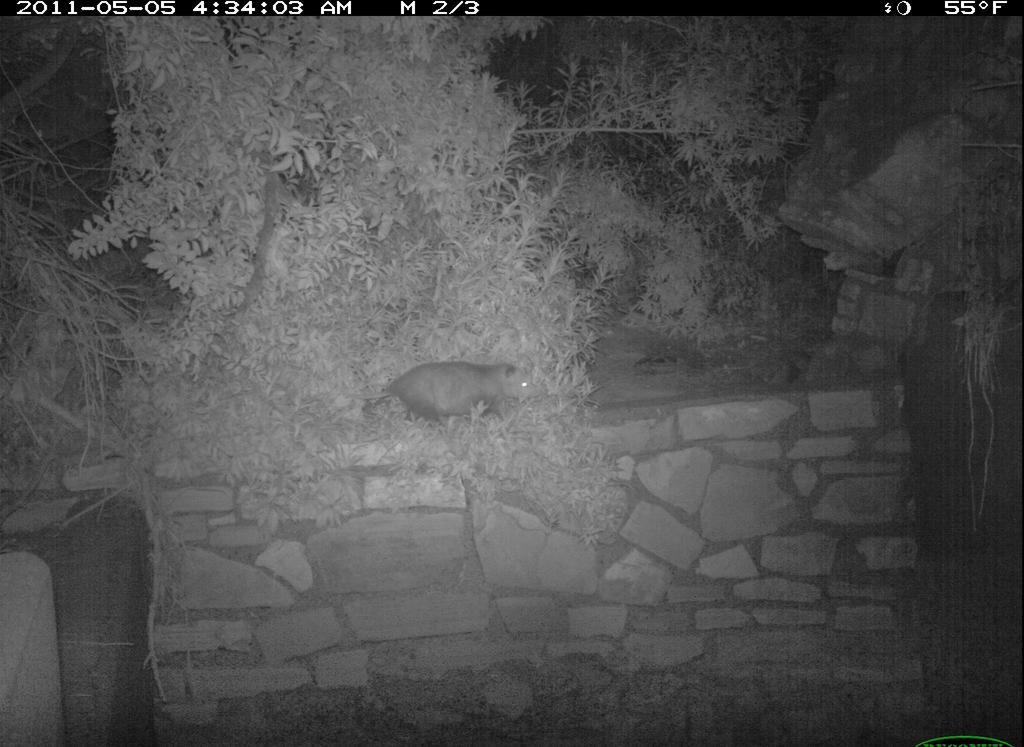opossum: (360, 345, 547, 438)
